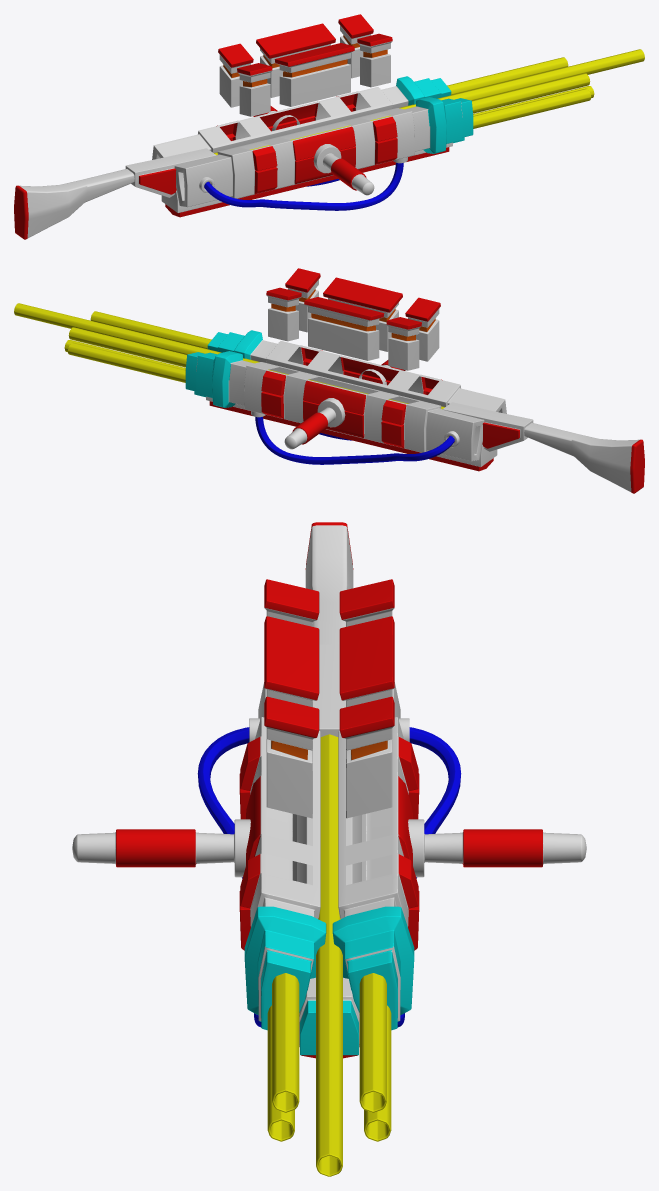
Rendered from SKFishingRodExploded.fbx.
3 views of the same model, one above another, from view 1: azimuth 30°, elevation 25°; view 2: azimuth 150°, elevation 25°; view 3: azimuth 270°, elevation 25° (orthographic). The views are drawn at different scales.
Parts seen in each view (by area): view 1: FishingRodBody; view 2: FishingRodBody; view 3: FishingRodBody.
Part boxes in pixels (x1,y1,x2,y2): FishingRodBody: (14,14,644,239); FishingRodBody: (14,268,644,493); FishingRodBody: (72,522,586,1176).
Size of the model in its own units: 139 by 49.62 by 34.56.
